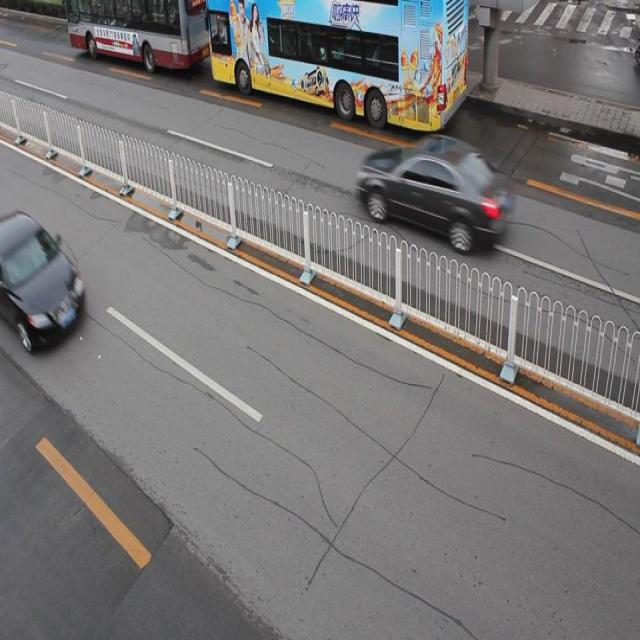car: (358, 132, 510, 252), (0, 209, 84, 349)
van: (207, 1, 466, 134), (65, 1, 210, 70)
